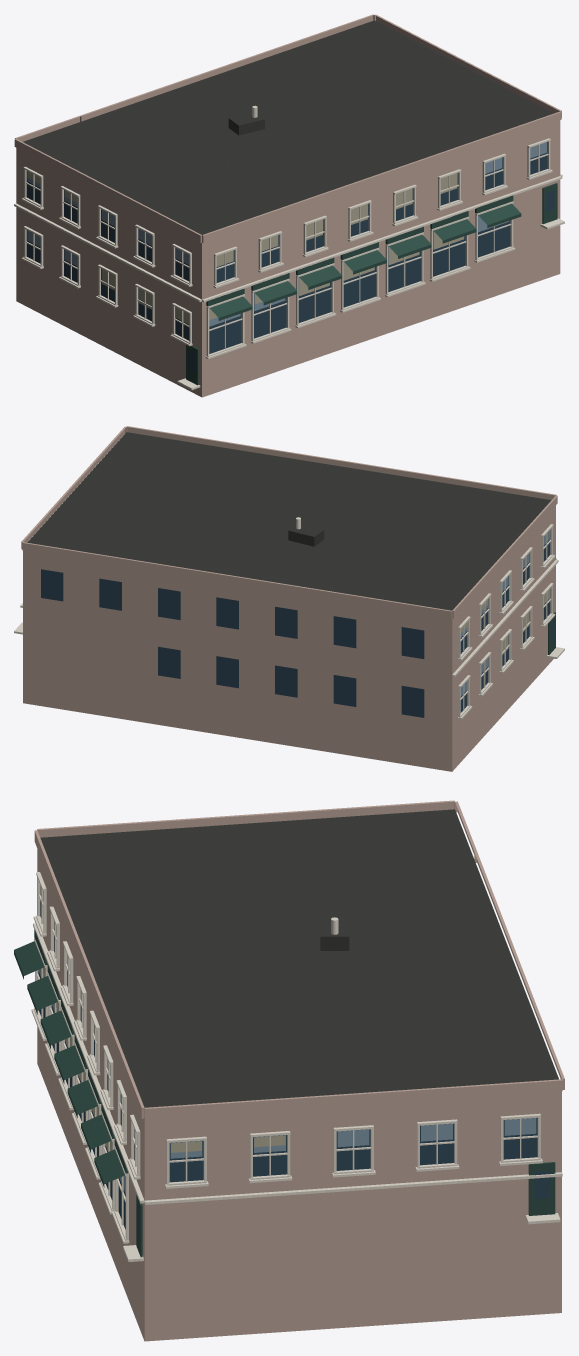
3 views of the same model, one above another, from view 1: azimuth 30°, elevation 25°; view 2: azimuth 150°, elevation 25°; view 3: azimuth 270°, elevation 25° (orthographic). The views are drawn at different scales.
Visible parts, largest first — view 1: Footprint 0 / surface 1, Footprint 0 / surface 2, Cornices and window frames, Inset glazing, Facade bay volumes, Storefronts and doors, Interior blind variation, Sky reflection panels; view 2: Footprint 0 / surface 2, Footprint 0 / surface 1, Inset glazing, Facade bay volumes, Cornices and window frames; view 3: Footprint 0 / surface 1, Footprint 0 / surface 2, Cornices and window frames, Facade bay volumes, Storefronts and doors, Inset glazing, Sky reflection panels, Interior blind variation.
Boxes of the visible parts, bbox=[...] form: Footprint 0 / surface 1: bbox=[23, 20, 553, 234]; Footprint 0 / surface 2: bbox=[16, 120, 560, 397]; Cornices and window frames: bbox=[14, 138, 564, 389]; Inset glazing: bbox=[26, 142, 554, 372]; Facade bay volumes: bbox=[14, 14, 561, 243]; Storefronts and doors: bbox=[186, 183, 557, 385]; Interior blind variation: bbox=[27, 171, 463, 324]; Sky reflection panels: bbox=[27, 142, 546, 326]; Footprint 0 / surface 2: bbox=[23, 506, 555, 771]; Footprint 0 / surface 1: bbox=[27, 432, 551, 610]; Inset glazing: bbox=[41, 530, 554, 717]; Facade bay volumes: bbox=[21, 426, 557, 618]; Cornices and window frames: bbox=[14, 524, 564, 719]; Footprint 0 / surface 1: bbox=[40, 809, 558, 1107]; Footprint 0 / surface 2: bbox=[37, 849, 561, 1341]; Cornices and window frames: bbox=[31, 872, 562, 1261]; Facade bay volumes: bbox=[34, 800, 564, 1119]; Storefronts and doors: bbox=[14, 929, 555, 1257]; Inset glazing: bbox=[38, 894, 549, 1237]; Sky reflection panels: bbox=[38, 969, 536, 1193]; Interior blind variation: bbox=[40, 885, 285, 1152].
Size of the model in its own units: 30.32 by 11.62 by 22.79.
